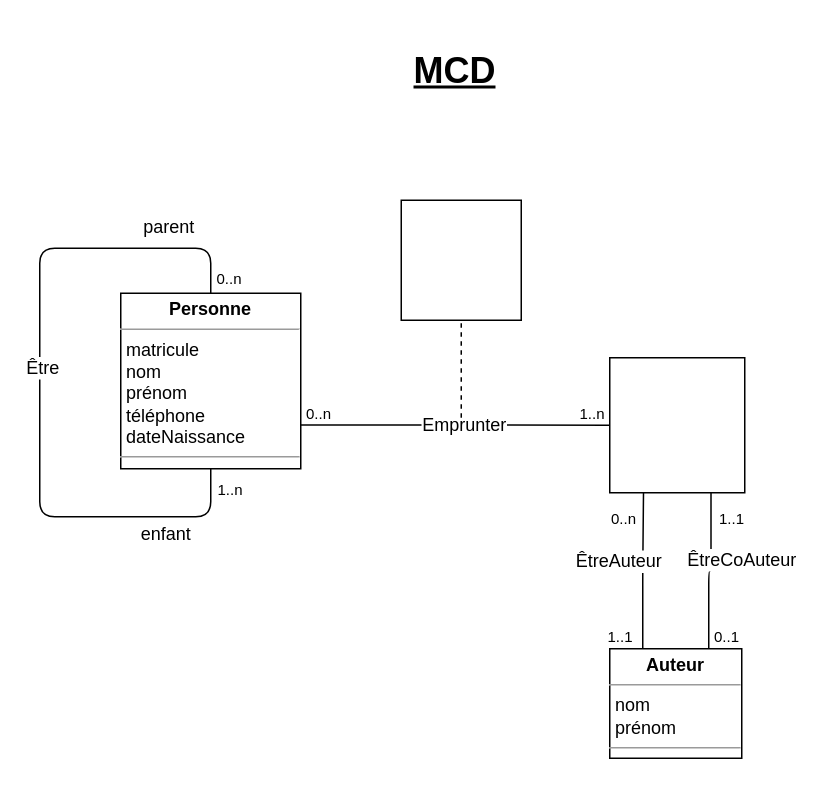
Some shapes in this 822 by 785 pixel diagram are drawn without their labels. The shapes that lost their labels are listed below. From the top down, each one's centre as x and y in pixels, then its label:
At point 460,259: "Emprunter début retour".
At point 676,424: "Livre isbn titre éditeur".
